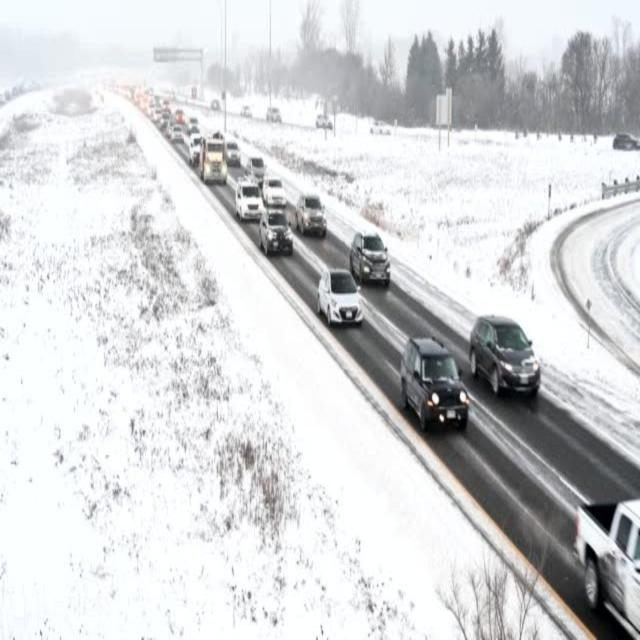Car: (574, 496, 640, 638), (400, 332, 471, 436), (469, 315, 541, 397), (316, 265, 364, 327), (349, 231, 392, 287), (259, 208, 293, 256), (295, 193, 327, 238), (235, 179, 262, 222), (260, 176, 286, 209), (247, 156, 266, 185), (188, 134, 203, 167), (225, 140, 241, 167), (170, 124, 184, 143), (187, 116, 199, 133)
